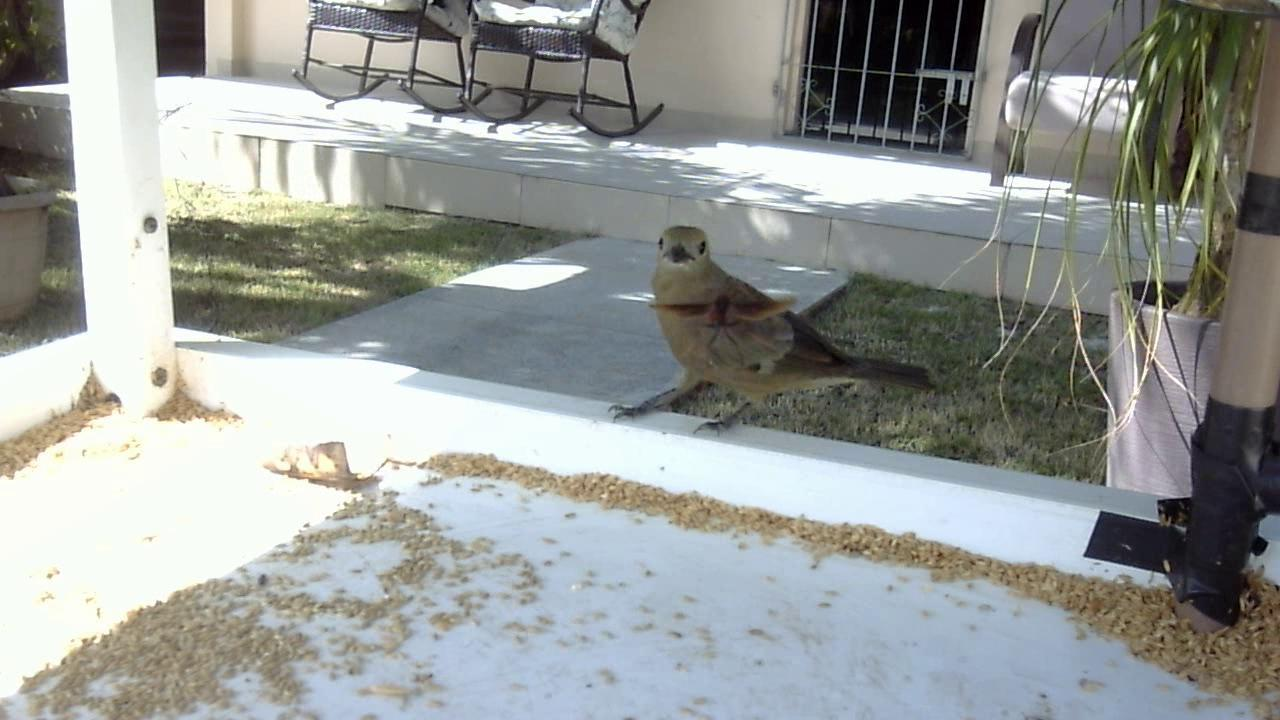sanhaco_do_coqueiro: (613, 226, 937, 456)
